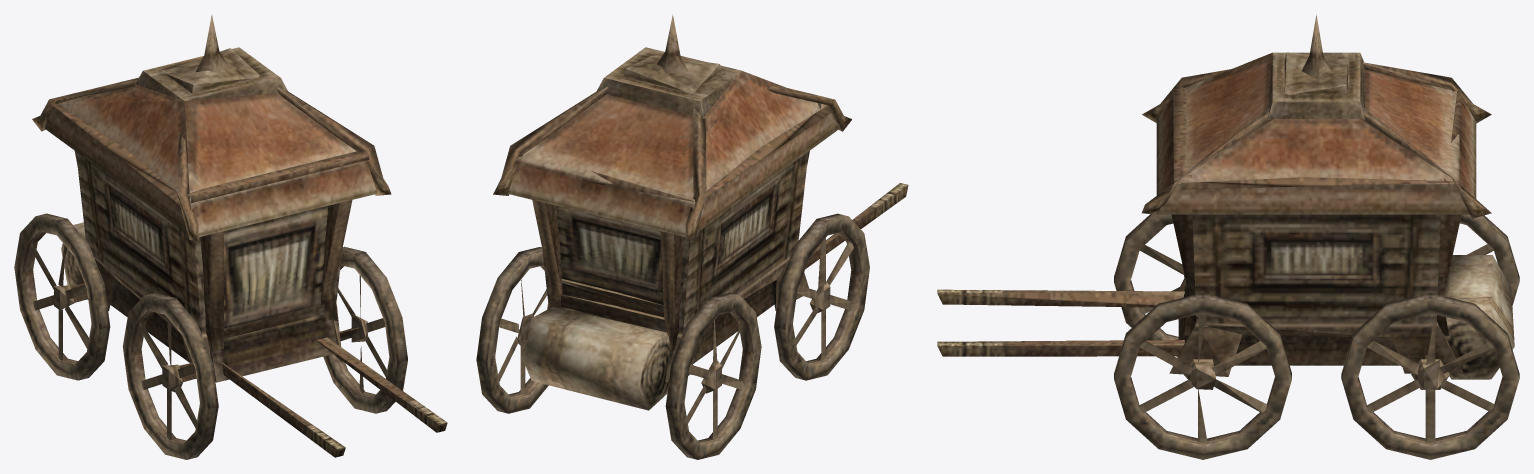
File: desert_carriage01_lod_01.glb
3 views of the same model, side by side, from view 1: azimuth 30°, elevation 25°; view 2: azimuth 150°, elevation 25°; view 3: azimuth 270°, elevation 25° (orthographic). The views are drawn at different scales.
Parts seen in each view (by area): view 1: Bip01; view 2: Bip01; view 3: Bip01.
Boxes of the visible parts, x1,y1,x2,y2 form: Bip01: [14, 14, 447, 459]; Bip01: [476, 14, 908, 459]; Bip01: [937, 14, 1519, 459].
Bounding box in the file's own units: 2.41 × 4.33 × 5.78.
1 material, 1 textured.
